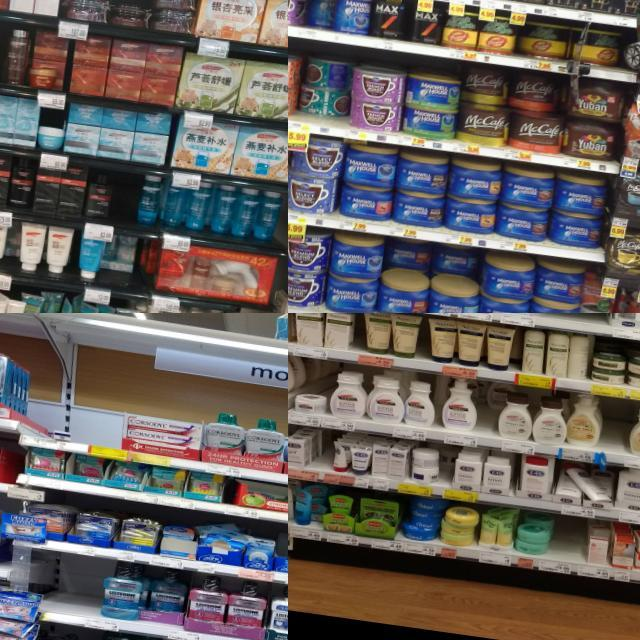void: (51, 552, 106, 628), (68, 407, 121, 458), (597, 399, 633, 463), (548, 516, 586, 575), (108, 172, 140, 236), (546, 313, 608, 334)
